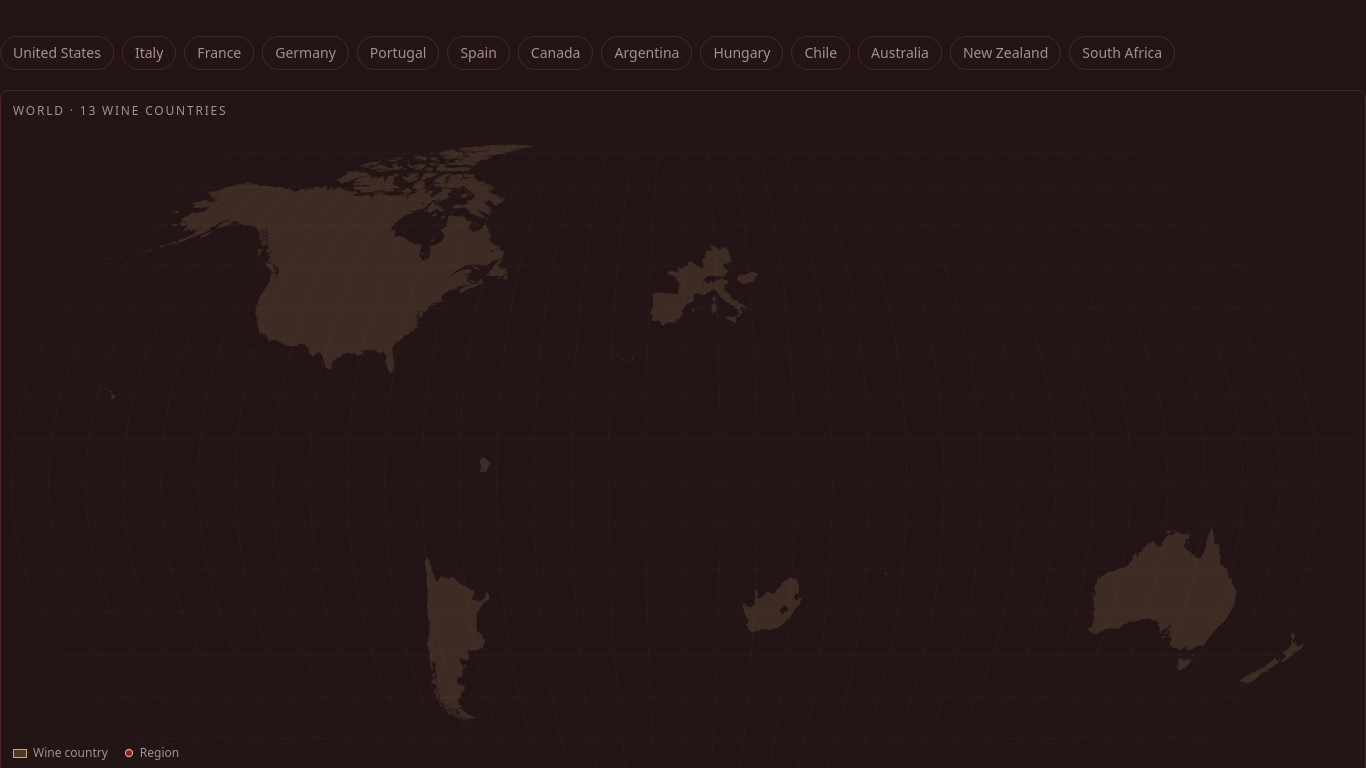
Scenario: RegionsChapter › flies to a country from a chip, opens its drawer and focuses the heading
This screenshot has width=1366, height=768.
Click the button "France" at {"x": 219, "y": 53}, box [184,36,254,70]
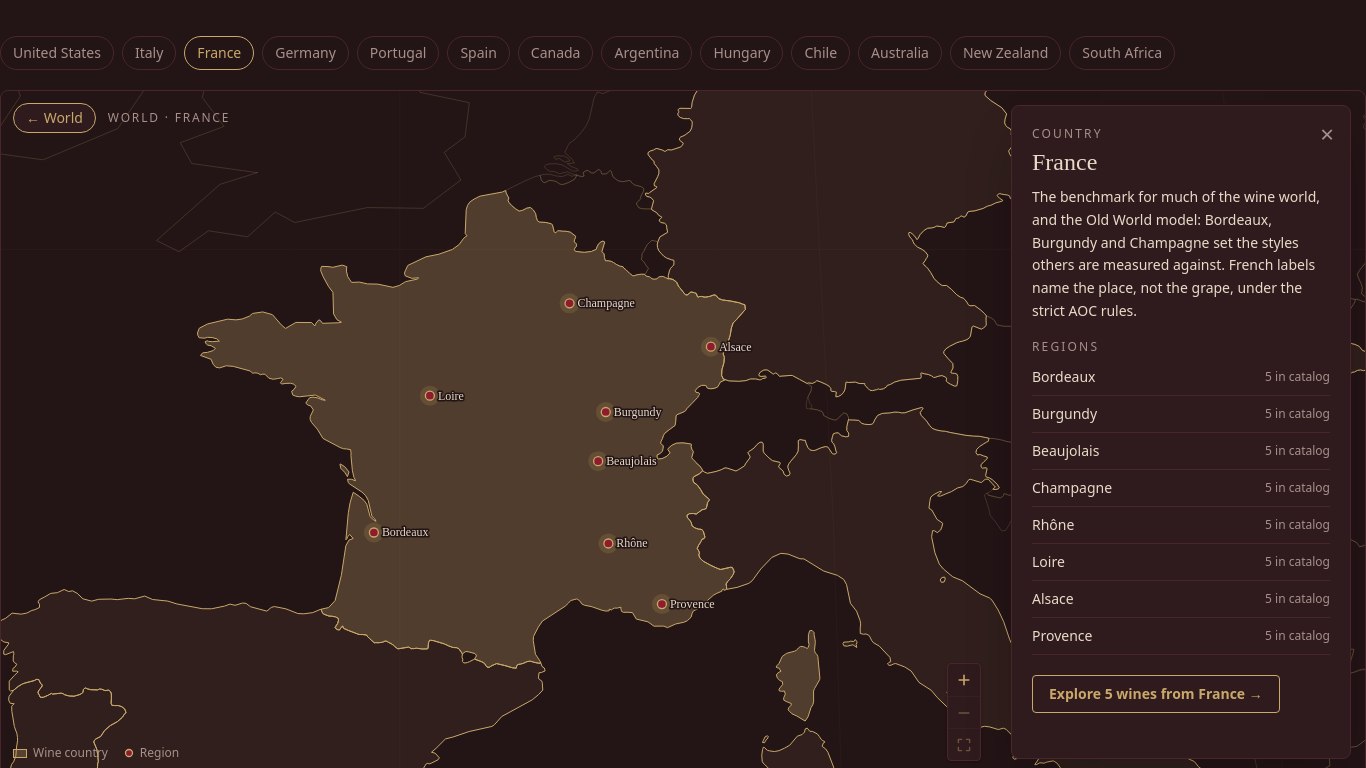
Expected: the text with test id "map-breadcrumb" reads "World · France", [108,109,230,126]
Expected: the button "← World" is shown, [13,103,96,133]
